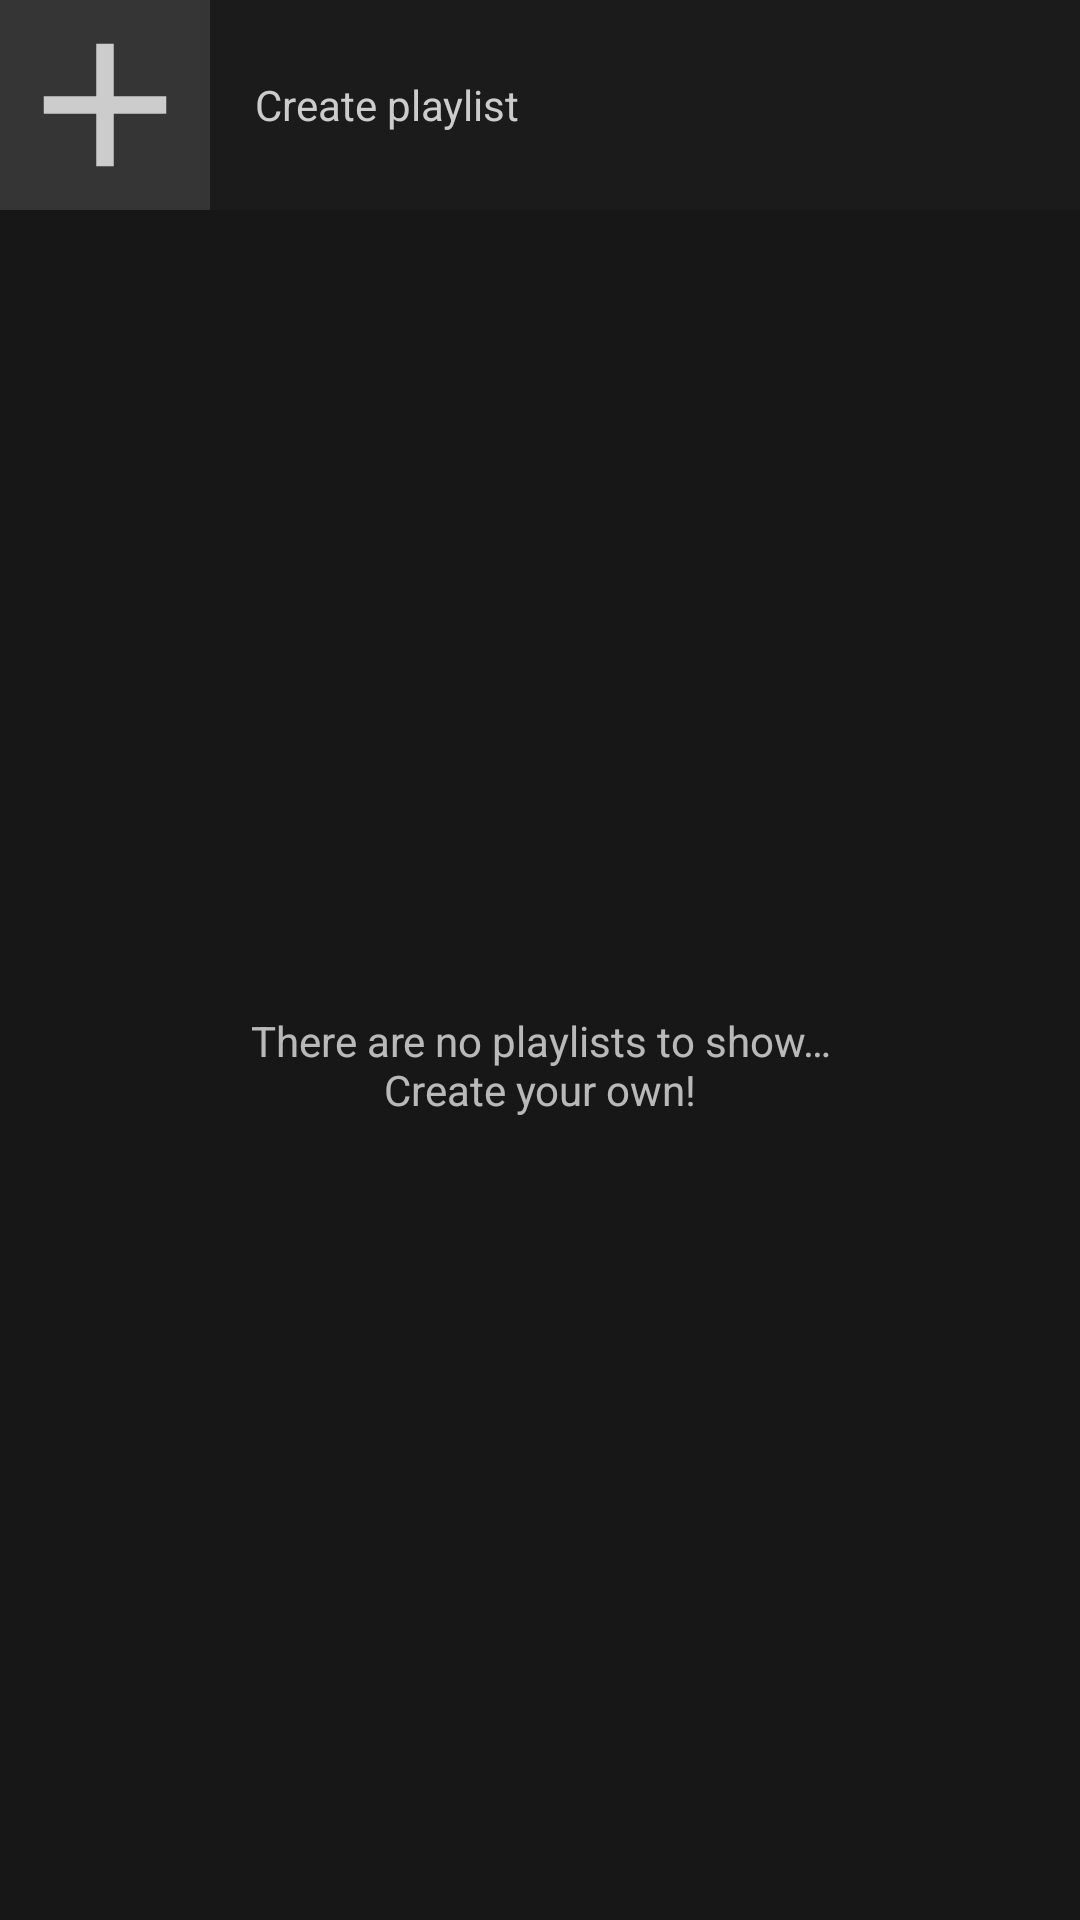

Screen size 1080px x 1920px. Icon name, then its center in pixels as (x=x, y=y):
add: (x=105, y=105)
